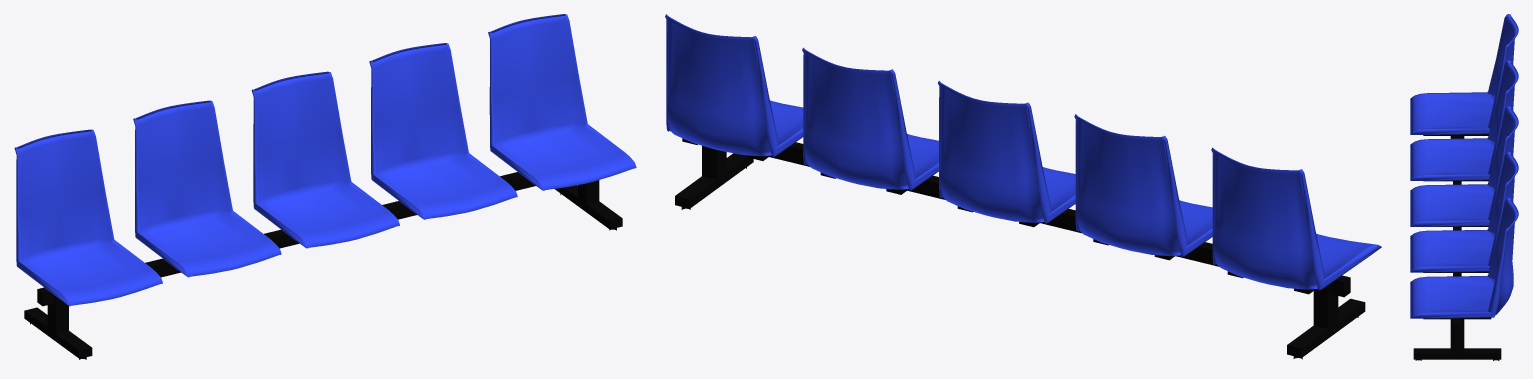
Rendered from Ground Floor Chairs (5 Chairs).fbx.
The picture shows the model from 3 angles, left to right: view 1: azimuth 30°, elevation 25°; view 2: azimuth 150°, elevation 25°; view 3: azimuth 270°, elevation 25°; orthographic projection. The views are drawn at different scales.
Visible parts, largest first — view 1: Chairs; view 2: Chairs; view 3: Chairs.
Part boxes in pixels (x1,y1,x2,y2): Chairs: [14, 14, 636, 359]; Chairs: [665, 14, 1381, 359]; Chairs: [1410, 14, 1518, 360].
Size of the model in its own units: 1209 by 355 by 252.
